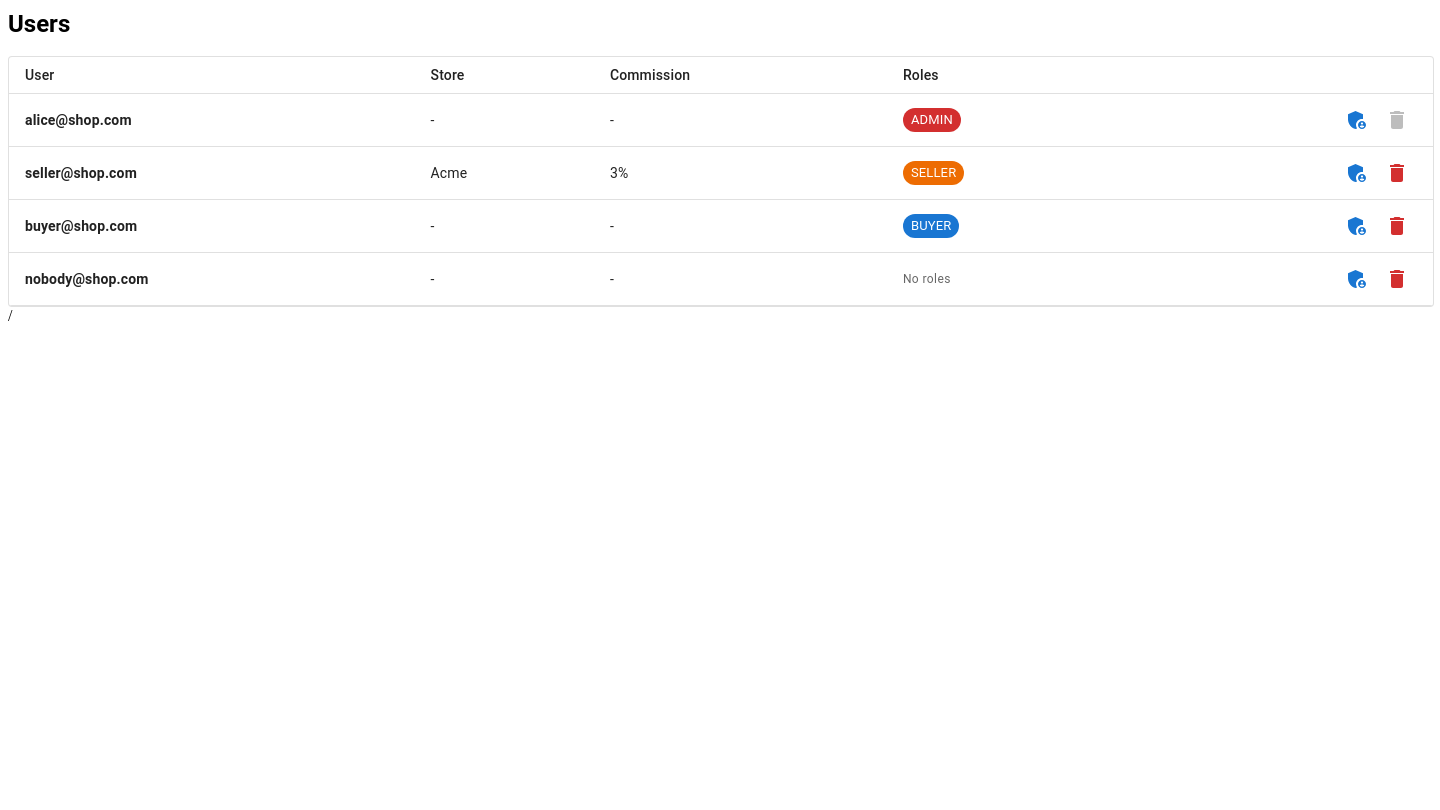
Test: AdminUsers › shows why a role change was refused
The width and height of the screenshot is (1440, 810).
Click the button named "Roles for alice@shop.com".
click(1357, 120)  # box [1337,100,1377,140]
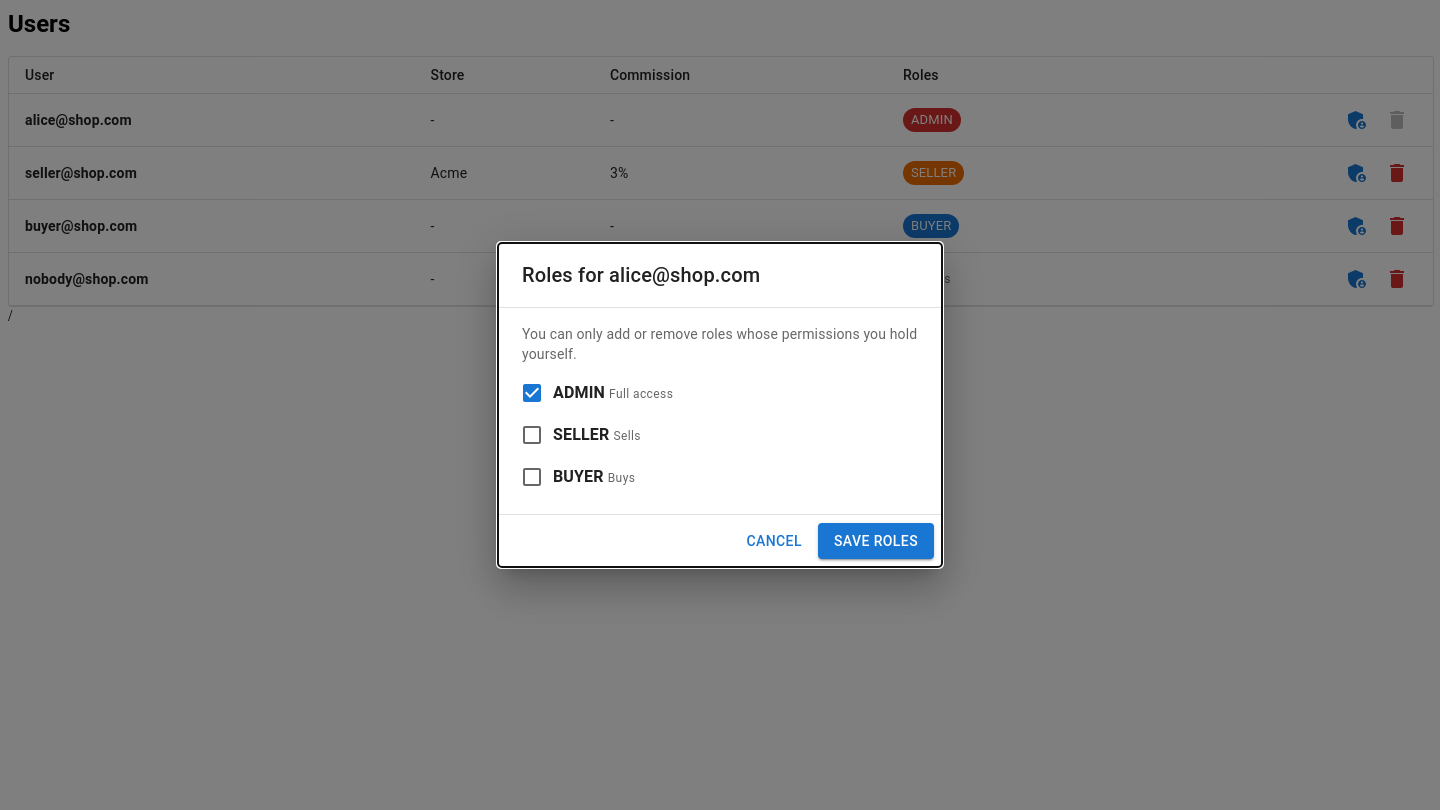
Click the checkbox labelled "ADMIN Full access".
click(597, 393)  # box [520,381,673,405]
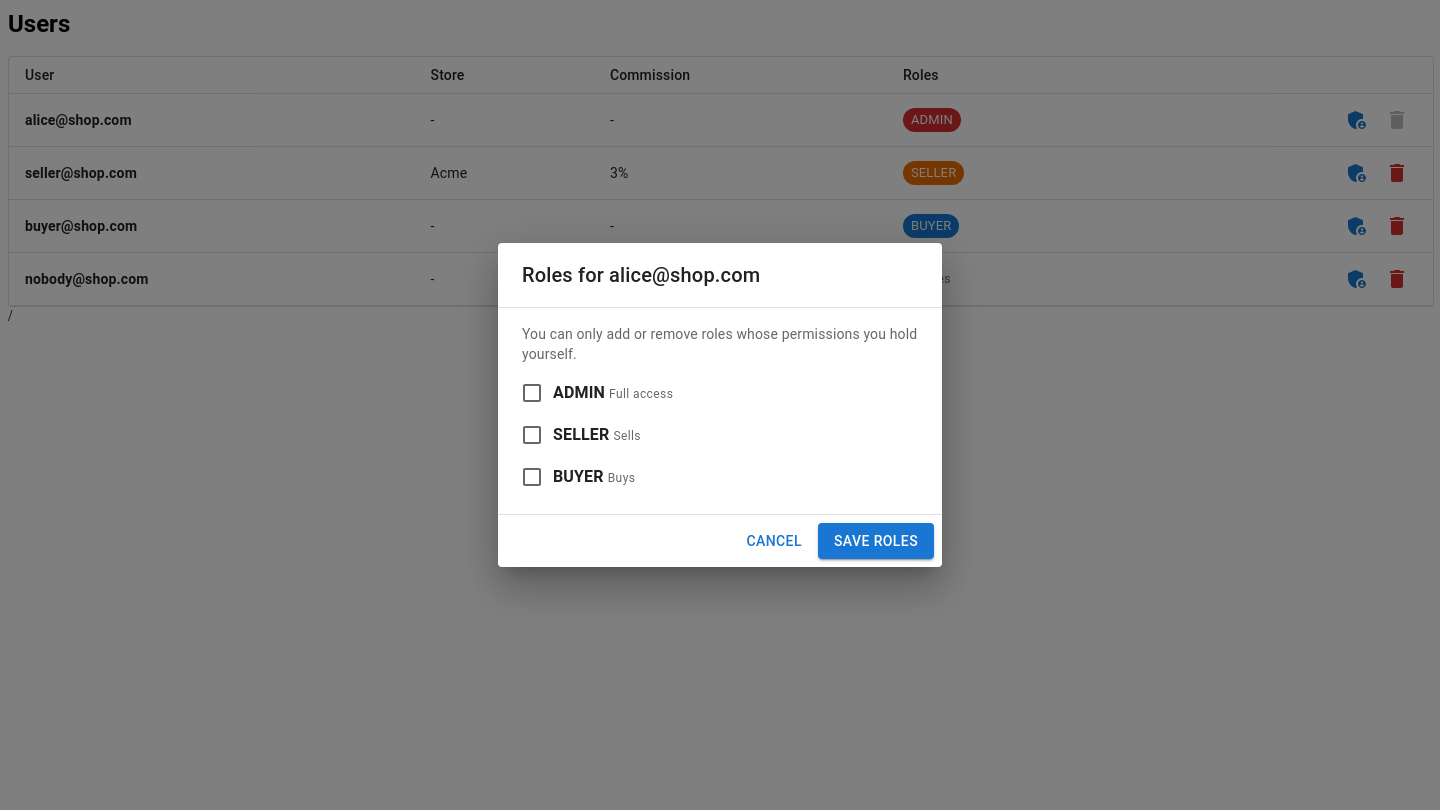
Click the button "Save roles".
click(876, 541)  # box [818,523,934,559]
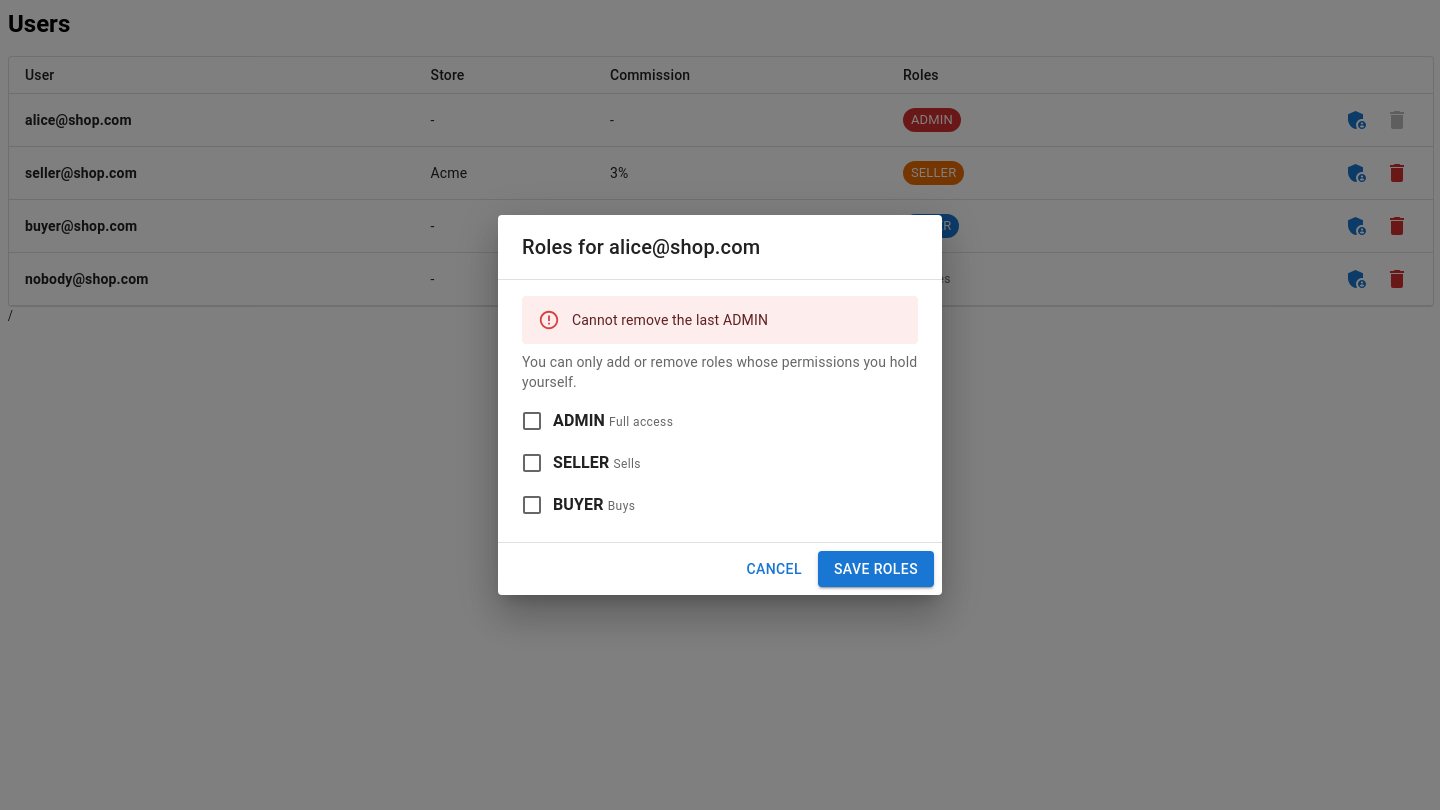
Now the text "Cannot remove the last ADMIN" is shown, box [572,312,768,328]
